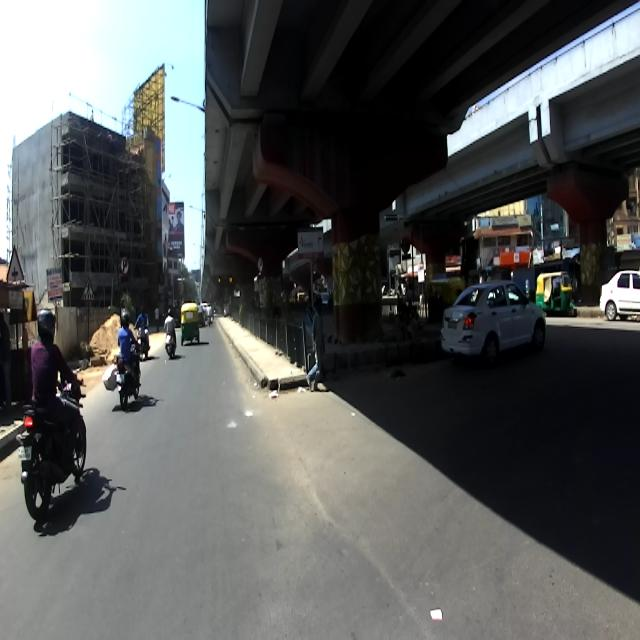car ahead at: (442, 276, 548, 378)
motorcycle ahead at: (16, 402, 87, 516)
sign board ahead at: (5, 250, 32, 302)
